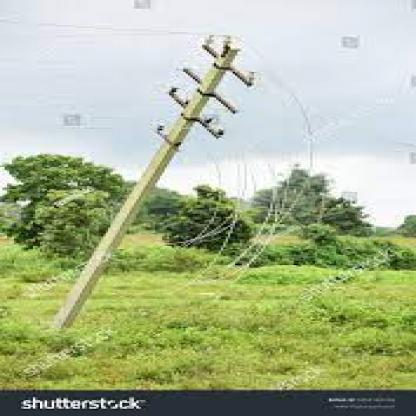Electrical Pole: (27, 26, 277, 340)
